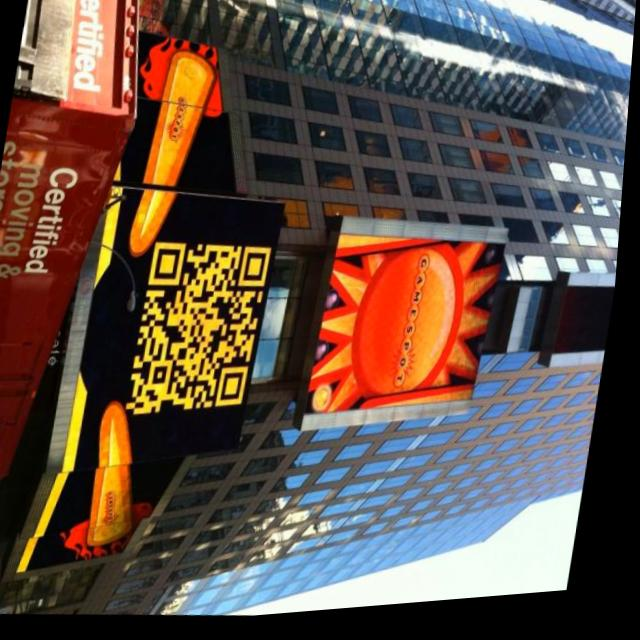qrcode: (131, 237, 277, 429)
